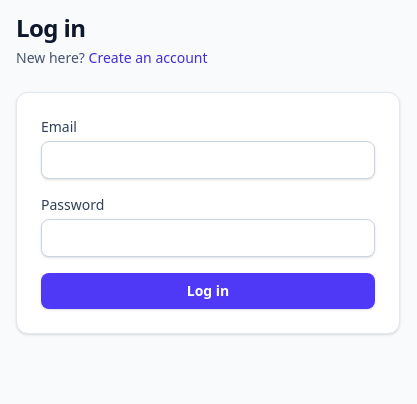
Test: AuthForm › shows the backend's message when login fails
Type "a@b.co" into the field labelled "Email" at (208, 160), box left=41, top=141, right=375, bottom=179
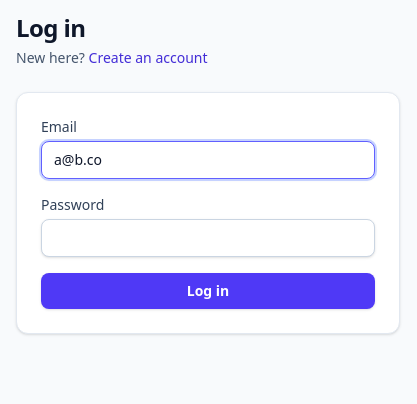
Type "wrong-pass" into the password field labelled "Password" at (208, 238), box left=41, top=219, right=375, bottom=257
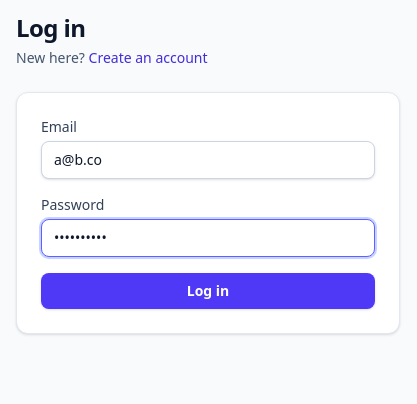
Click the button "Log in" at (208, 291), box left=41, top=273, right=375, bottom=309
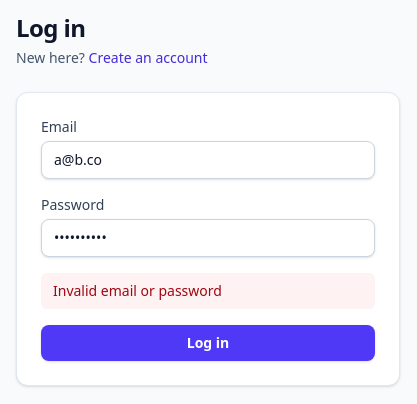
Check: the message reads "Invalid email or password", box left=53, top=281, right=222, bottom=300
